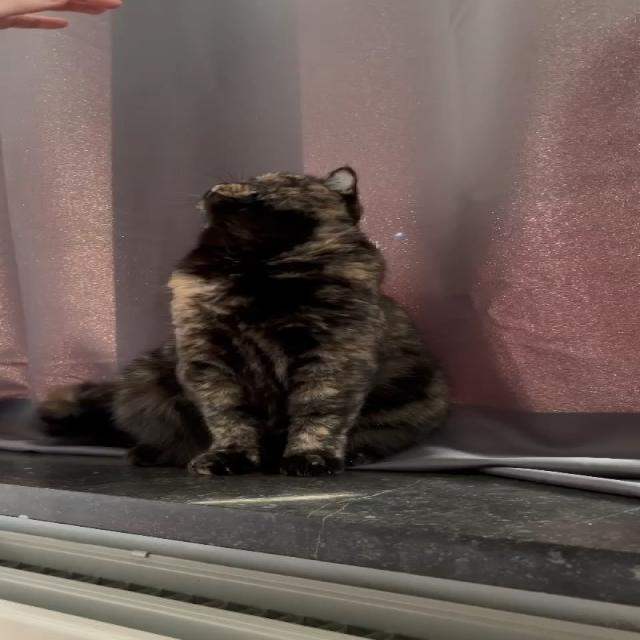authorized: (36, 165, 452, 477)
